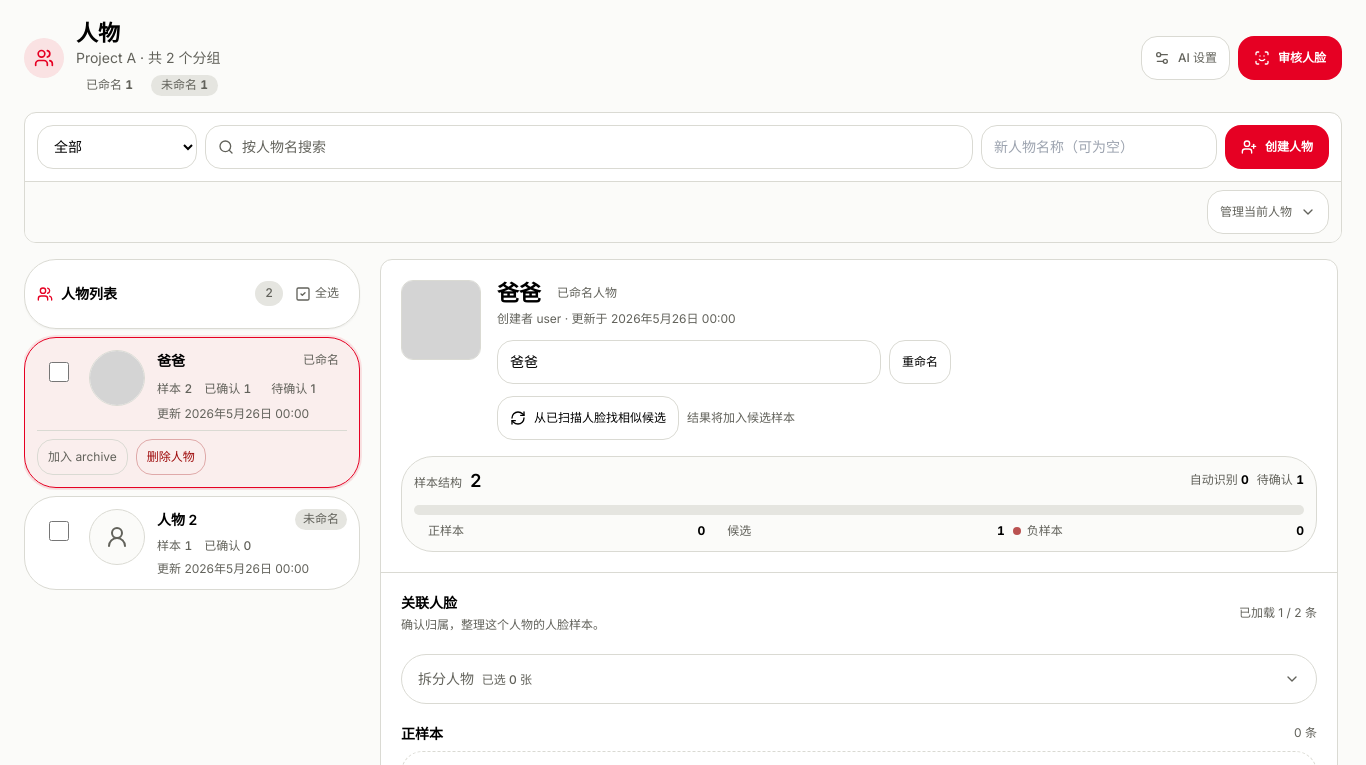
it: PeoplePage › selects all visible people and clears the selection
Expected: the 2nd heading "爸爸" is shown, [157, 352, 185, 368]
Click the button with aria-label "全选当前结果": x=317, y=294 [287, 272, 347, 316]
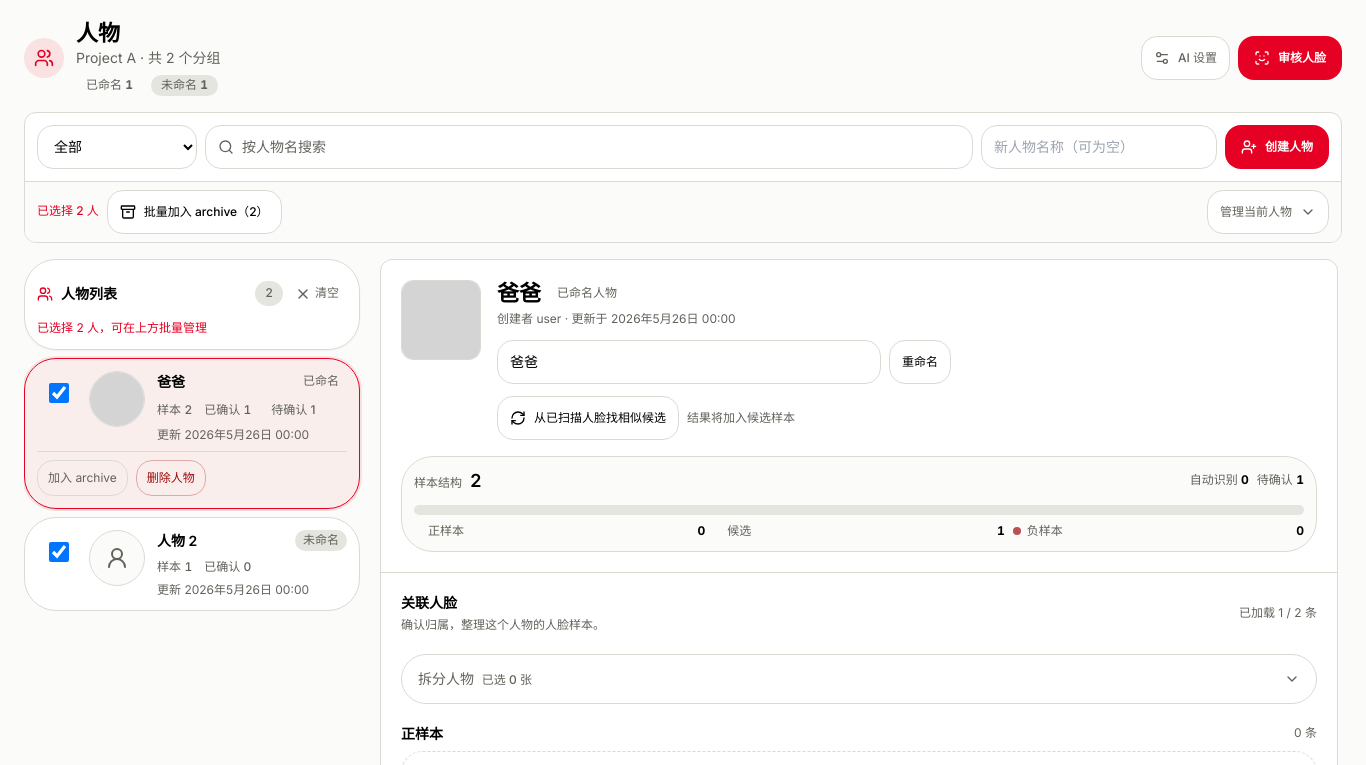
Now the checkbox named "选择人物 爸爸" is checked, box [49, 383, 69, 403]
Now the checkbox named "选择人物 人物 2" is checked, box [49, 542, 69, 562]
Now the message shows "已选择 2 人", box [37, 320, 207, 335]
Click the button with aria-label "清空人物选择": x=317, y=294 [287, 272, 347, 316]
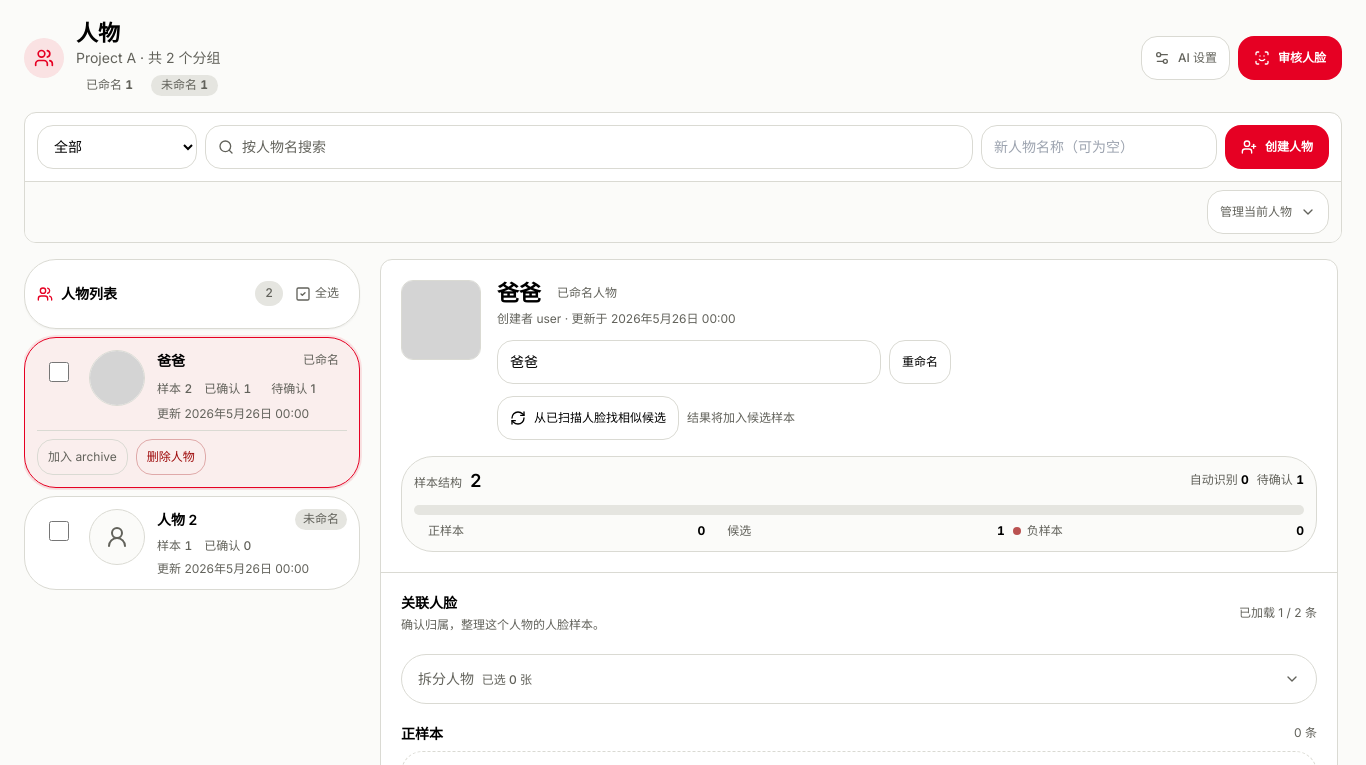
Now the checkbox named "选择人物 爸爸" is not checked, box [49, 362, 69, 382]
Now the checkbox named "选择人物 人物 2" is not checked, box [49, 521, 69, 541]
